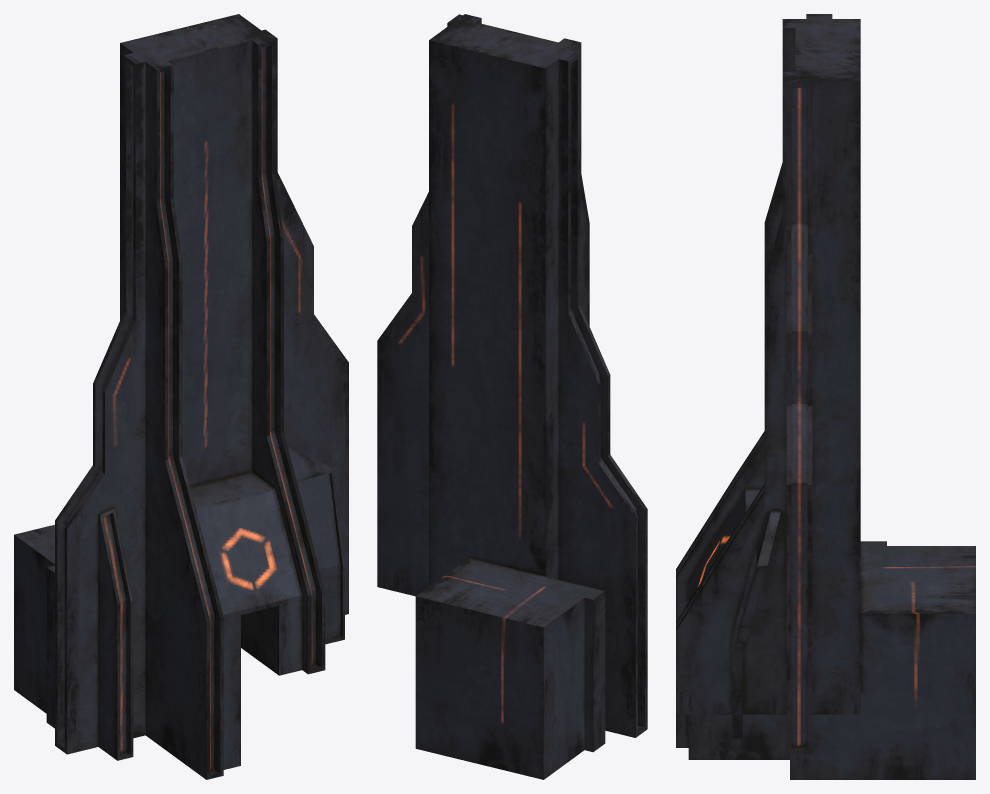
The picture shows the model from 3 angles, left to right: view 1: azimuth 30°, elevation 25°; view 2: azimuth 150°, elevation 25°; view 3: azimuth 270°, elevation 25°; orthographic projection. The views are drawn at different scales.
Visible parts, largest first — view 1: SB_01; view 2: SB_01; view 3: SB_01.
Boxes of the visible parts, bbox=[...] form: SB_01: bbox=[14, 14, 348, 779]; SB_01: bbox=[377, 14, 647, 779]; SB_01: bbox=[676, 14, 975, 779].
Size of the model in its own units: 2445 by 5773 by 2179.
1 material, 1 textured.
